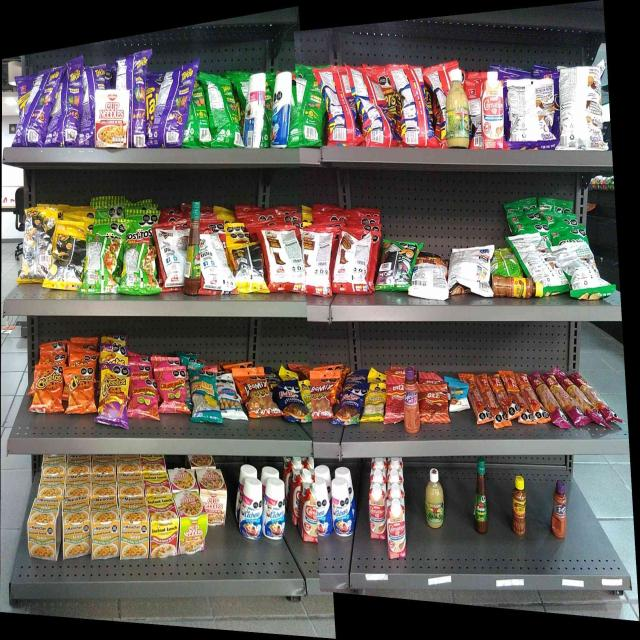bitzAlmendras: (446, 375, 469, 411)
bitzEnchilado90: (422, 378, 446, 423), (384, 366, 400, 424)
bitzEnchilado95: (470, 367, 533, 429)
bitzHabanero: (536, 368, 597, 428)
bokadosCacahuates: (340, 382, 362, 428), (278, 381, 301, 423)
botaneraChilito: (492, 276, 543, 300), (512, 475, 527, 539)
cheetosFlaminHot: (100, 365, 127, 426)
cheetosOriginal: (34, 362, 63, 415), (66, 364, 94, 412)
churrumais: (159, 368, 187, 413), (130, 378, 158, 420)
delPrimoSalsa: (445, 69, 470, 149), (424, 468, 444, 529)
doritosNacho: (266, 228, 304, 293), (338, 231, 373, 295), (450, 247, 492, 300), (510, 237, 564, 274), (202, 232, 233, 293), (567, 246, 603, 297), (305, 230, 332, 296), (382, 241, 413, 292), (234, 244, 265, 292), (415, 264, 448, 300)
leoCacahuates: (216, 374, 240, 421)
leoMix: (244, 372, 268, 416), (311, 378, 336, 419)
maruchanPollo: (27, 501, 62, 563), (120, 497, 148, 560), (64, 499, 92, 559), (93, 498, 119, 560)
maruchanRes: (151, 497, 178, 557)
nestleCarnation: (481, 72, 503, 150), (388, 499, 407, 562), (368, 481, 387, 541), (301, 483, 317, 544)
nestleLechera: (270, 72, 293, 148), (244, 73, 266, 149), (330, 477, 356, 539), (240, 478, 263, 540), (266, 480, 286, 539)
nissinCamaron: (180, 493, 208, 556)
nissinRes: (207, 80, 236, 146), (96, 96, 129, 150), (161, 75, 183, 148), (208, 472, 227, 529)
productoAtras: (558, 63, 604, 152), (506, 78, 556, 151), (22, 208, 56, 280), (28, 70, 57, 140), (58, 66, 83, 143), (87, 235, 120, 292), (123, 245, 156, 297), (57, 228, 85, 288), (116, 59, 146, 88), (83, 65, 104, 95)
salsaBufalo: (183, 200, 201, 296), (473, 457, 488, 535)
semillasCalabaza: (366, 379, 383, 422)
semillasGirasol: (189, 368, 215, 425)
tajinDulce: (402, 367, 420, 434), (552, 478, 567, 540)
takisOriginal: (354, 69, 385, 145), (321, 70, 351, 145), (402, 70, 428, 146), (296, 76, 320, 145)
tostitos: (157, 226, 183, 294), (123, 224, 153, 244)
